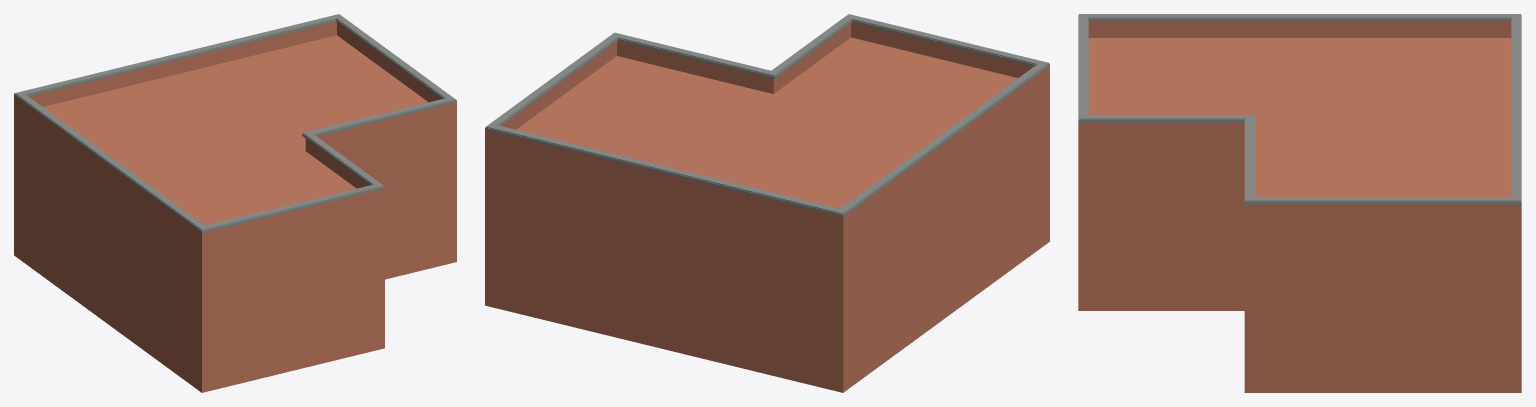
Rendered from building.glb.
3 views of the same model, side by side, from view 1: azimuth 30°, elevation 25°; view 2: azimuth 150°, elevation 25°; view 3: azimuth 270°, elevation 25° (orthographic). The views are drawn at different scales.
Parts seen in each view (by area): view 1: roof/body:0/roof_slab#0001, body:0/edge5/z0/body:0/edge5/z0/wall_0_0, body:0/edge0/z0/body:0/edge0/z0/wall_0_0, roof/body:0/parapet#0001, body:0/edge2/z0/body:0/edge2/z0/wall_0_0, roof/body:0/parapet_cap#0002, roof/body:0/parapet_cap#0001, body:0/edge4/z0/body:0/edge4/z0/wall_0_0, body:0/edge1/z0/body:0/edge1/z0/wall_0_0; view 2: body:0/edge4/z0/body:0/edge4/z0/wall_0_0, roof/body:0/roof_slab#0001, body:0/edge5/z0/body:0/edge5/z0/wall_0_0, roof/body:0/parapet#0001, roof/body:0/parapet_cap#0002, roof/body:0/parapet_cap#0001, body:0/edge0/z0/body:0/edge0/z0/wall_0_0, body:0/edge3/z0/body:0/edge3/z0/wall_0_0; view 3: roof/body:0/roof_slab#0001, body:0/edge3/z0/body:0/edge3/z0/wall_0_0, body:0/edge1/z0/body:0/edge1/z0/wall_0_0, roof/body:0/parapet#0001, roof/body:0/parapet_cap#0002, roof/body:0/parapet_cap#0001, body:0/edge2/z0/body:0/edge2/z0/wall_0_0, body:0/edge0/z0/body:0/edge0/z0/wall_0_0, body:0/edge4/z0/body:0/edge4/z0/wall_0_0, body:0/edge5/z0/body:0/edge5/z0/wall_0_0.
Part boxes in pixels (box(x1,y1,x2,y2)): roof/body:0/roof_slab#0001: box(14, 36, 456, 254); body:0/edge5/z0/body:0/edge5/z0/wall_0_0: box(14, 111, 209, 392); body:0/edge0/z0/body:0/edge0/z0/wall_0_0: box(197, 203, 384, 392); roof/body:0/parapet#0001: box(14, 22, 456, 248); body:0/edge2/z0/body:0/edge2/z0/wall_0_0: box(332, 117, 456, 279); roof/body:0/parapet_cap#0002: box(15, 14, 455, 230); roof/body:0/parapet_cap#0001: box(14, 19, 456, 233); body:0/edge4/z0/body:0/edge4/z0/wall_0_0: box(14, 36, 335, 258); body:0/edge1/z0/body:0/edge1/z0/wall_0_0: box(306, 153, 384, 349); body:0/edge4/z0/body:0/edge4/z0/wall_0_0: box(485, 146, 848, 392); roof/body:0/roof_slab#0001: box(485, 38, 1049, 241); body:0/edge5/z0/body:0/edge5/z0/wall_0_0: box(834, 87, 1044, 392); roof/body:0/parapet#0001: box(485, 22, 1049, 233); roof/body:0/parapet_cap#0002: box(486, 14, 1048, 214); roof/body:0/parapet_cap#0001: box(485, 20, 1049, 216); body:0/edge0/z0/body:0/edge0/z0/wall_0_0: box(850, 37, 1049, 244); body:0/edge3/z0/body:0/edge3/z0/wall_0_0: box(485, 56, 618, 305); roof/body:0/roof_slab#0001: box(1078, 38, 1521, 231); body:0/edge3/z0/body:0/edge3/z0/wall_0_0: box(1244, 222, 1521, 392); body:0/edge1/z0/body:0/edge1/z0/wall_0_0: box(1078, 140, 1244, 310); roof/body:0/parapet#0001: box(1078, 21, 1521, 222); roof/body:0/parapet_cap#0002: box(1079, 14, 1520, 201); roof/body:0/parapet_cap#0001: box(1078, 14, 1521, 204); body:0/edge2/z0/body:0/edge2/z0/wall_0_0: box(1244, 140, 1255, 392); body:0/edge0/z0/body:0/edge0/z0/wall_0_0: box(1078, 38, 1089, 310); body:0/edge4/z0/body:0/edge4/z0/wall_0_0: box(1510, 38, 1521, 392); body:0/edge5/z0/body:0/edge5/z0/wall_0_0: box(1089, 38, 1510, 39).
Bounding box in the file's own units: 8 × 3.82 × 8.
